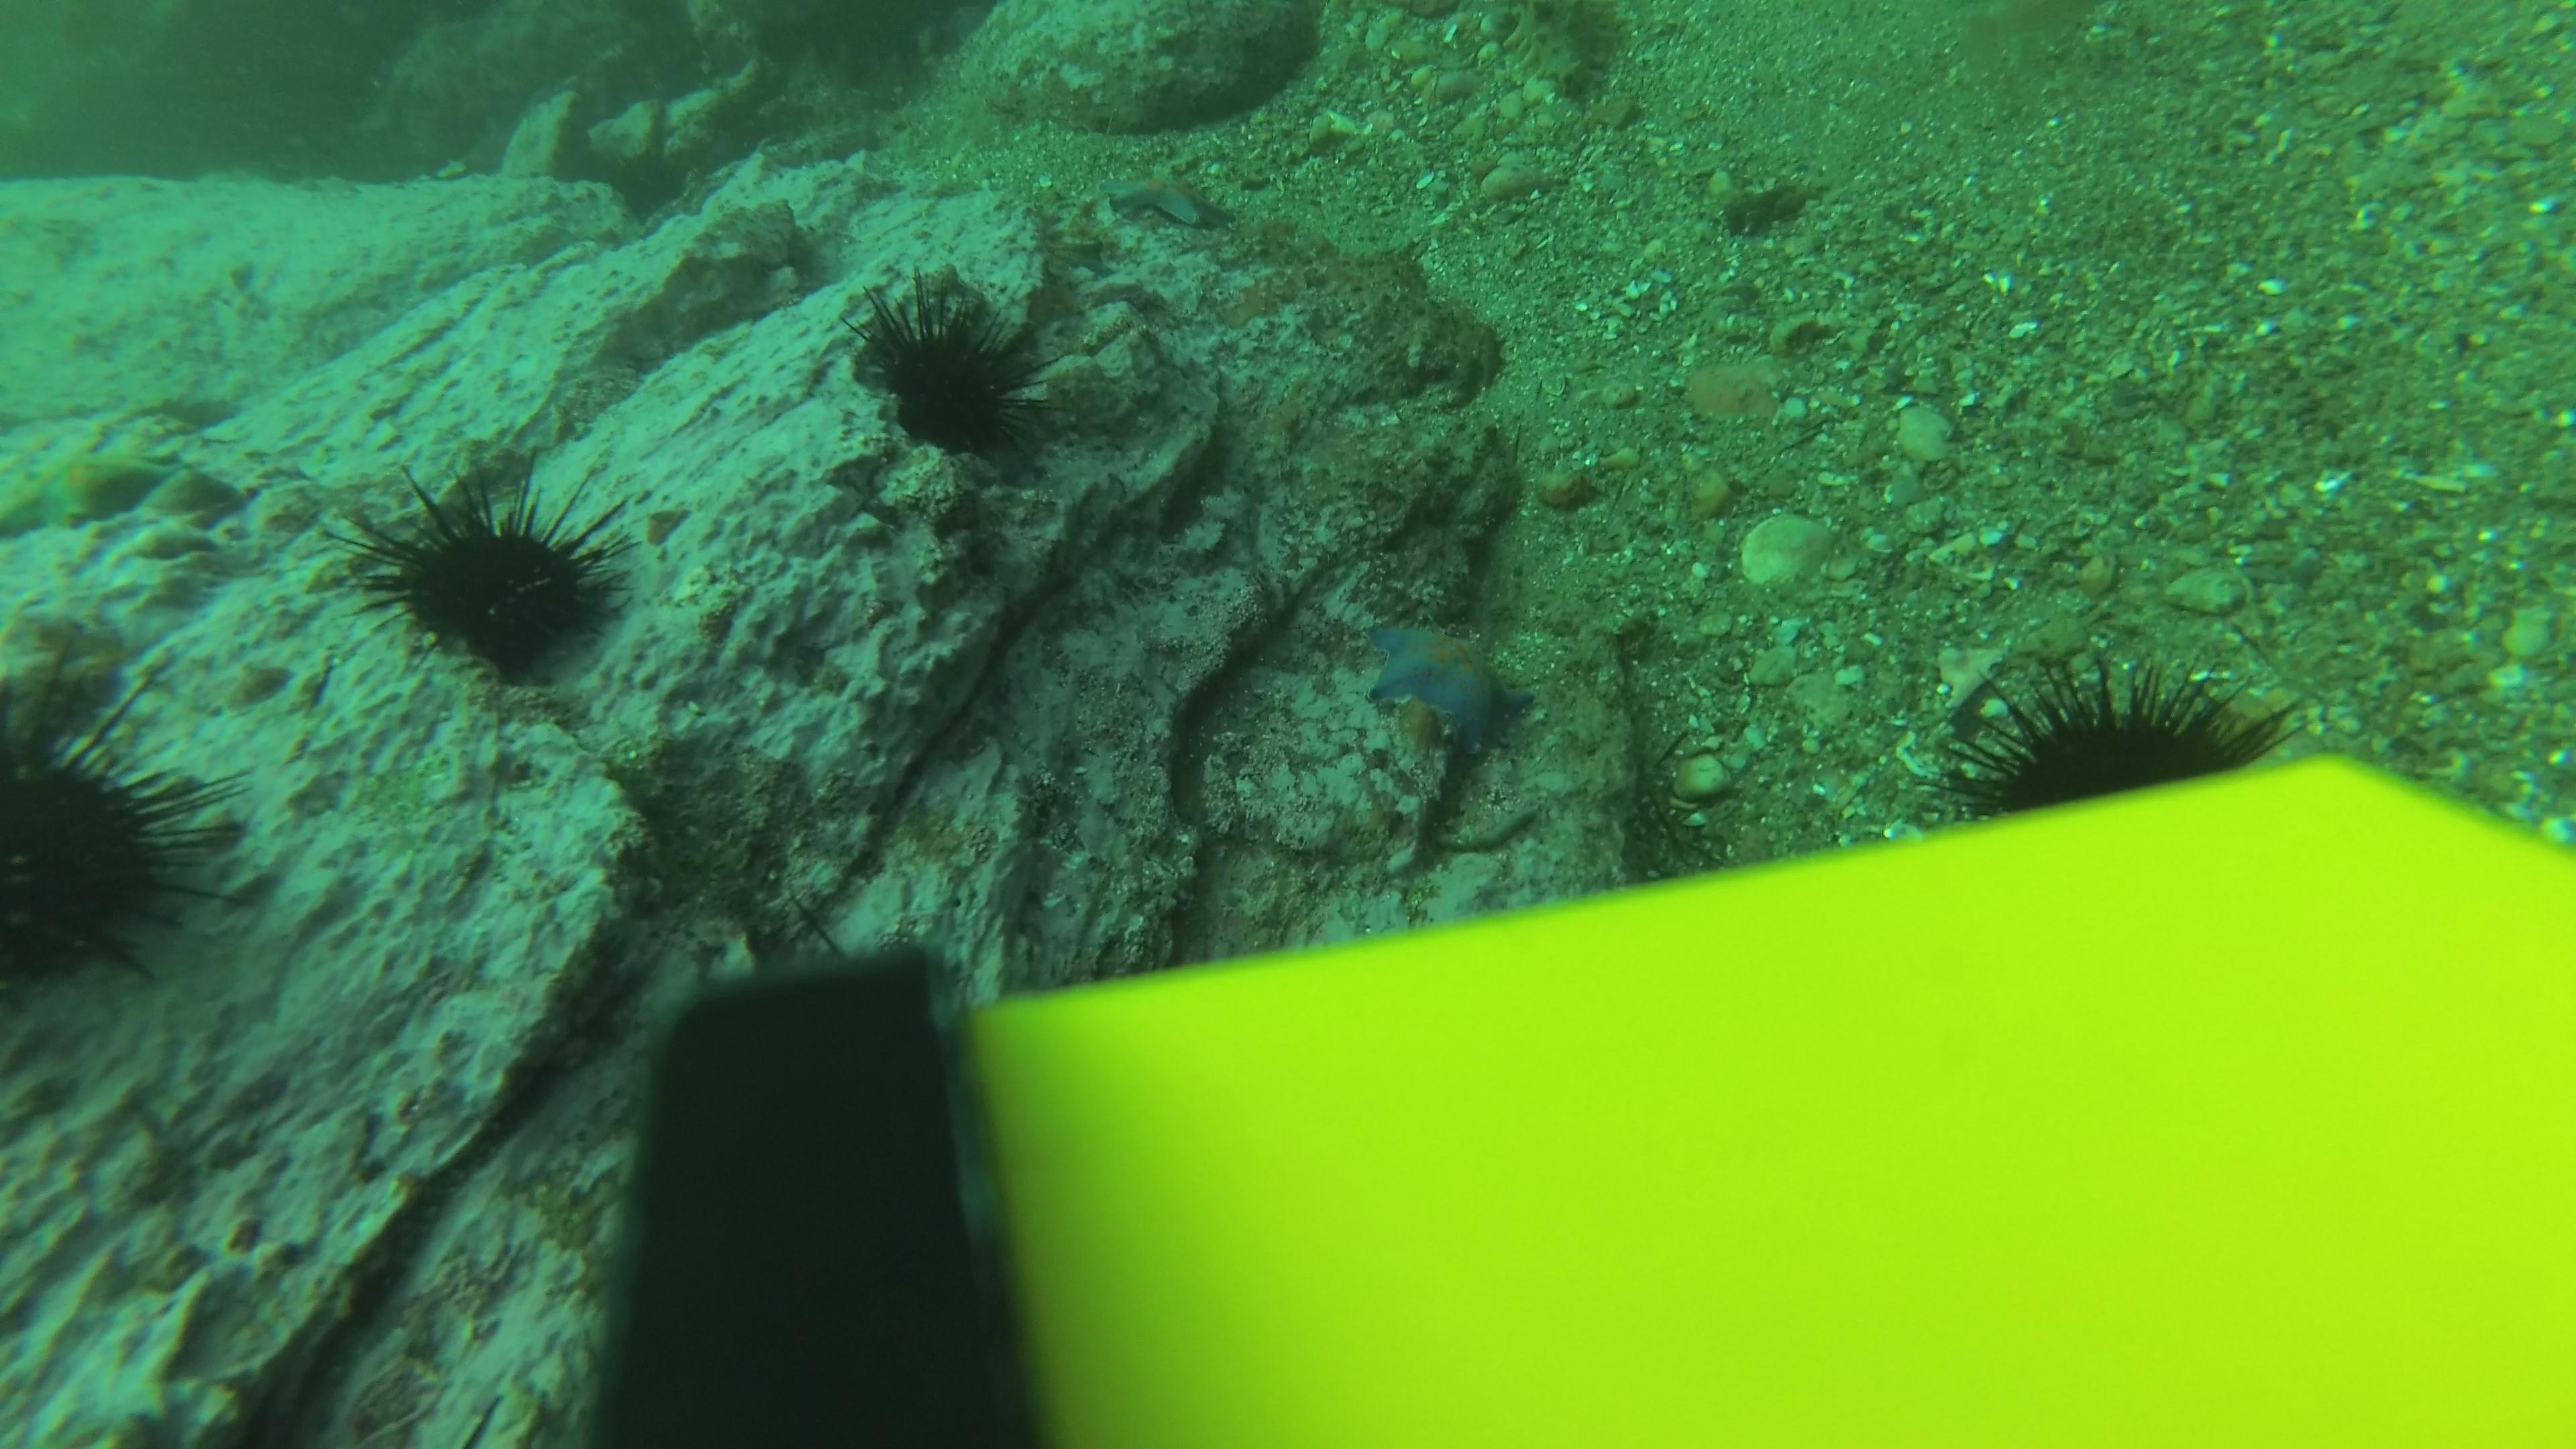echinus: (2, 663, 244, 1000), (338, 458, 635, 681), (1936, 648, 2293, 814), (844, 267, 1053, 464)
holothurian: (1493, 0, 1635, 108)
starfish: (1355, 610, 1539, 755), (0, 444, 189, 541), (1099, 170, 1235, 232)
